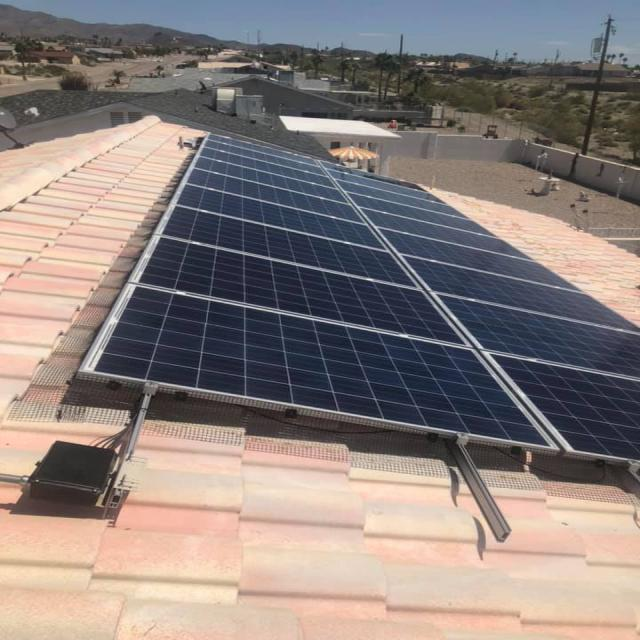clean-solar-panel: (80, 135, 638, 461)
